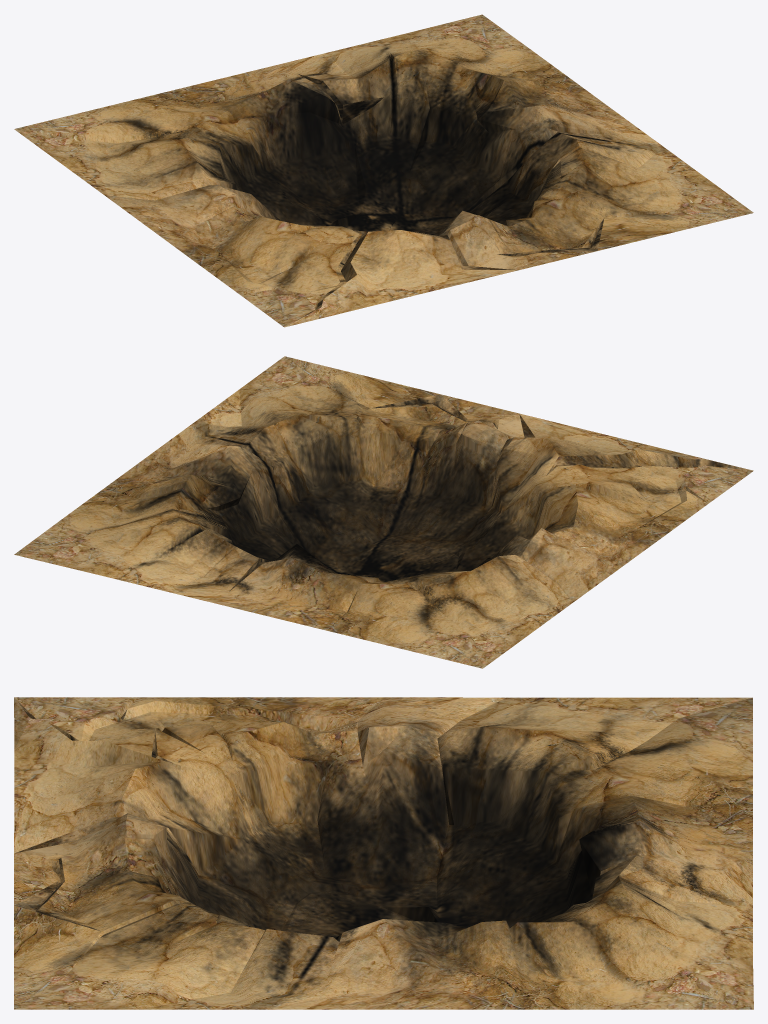
The model's file is Crater_5.fbx.
3 views of the same model, one above another, from view 1: azimuth 30°, elevation 25°; view 2: azimuth 150°, elevation 25°; view 3: azimuth 270°, elevation 25° (orthographic). The views are drawn at different scales.
Parts seen in each view (by area): view 1: Crater_5; view 2: Crater_5; view 3: Crater_5.
Boxes of the visible parts, x1=… form: Crater_5: x1=14, y1=14, x2=753, y2=327; Crater_5: x1=14, y1=356, x2=753, y2=668; Crater_5: x1=14, y1=697, x2=753, y2=1009.
Size of the model in its own units: 601 by 116 by 601.
